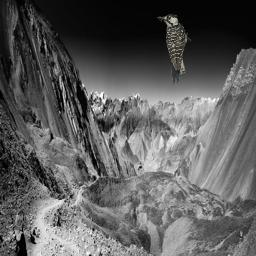Woodpecker: (157, 14, 192, 86)
